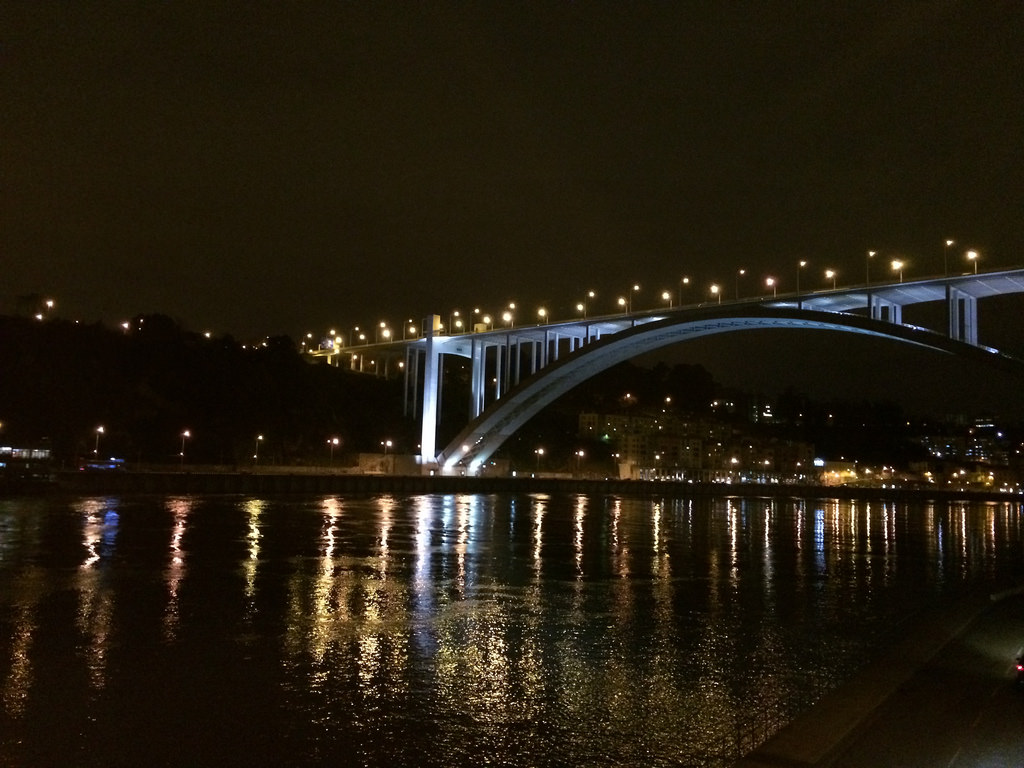arrabida: (305, 266, 1023, 479)
